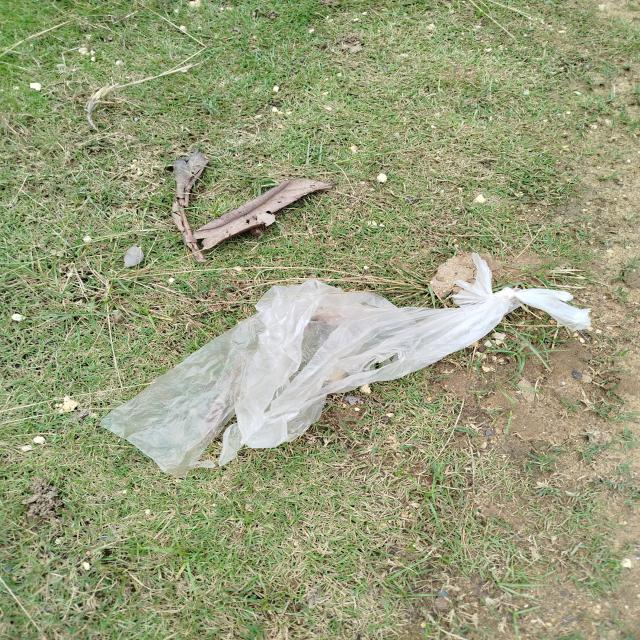residual: (90, 253, 610, 484)
